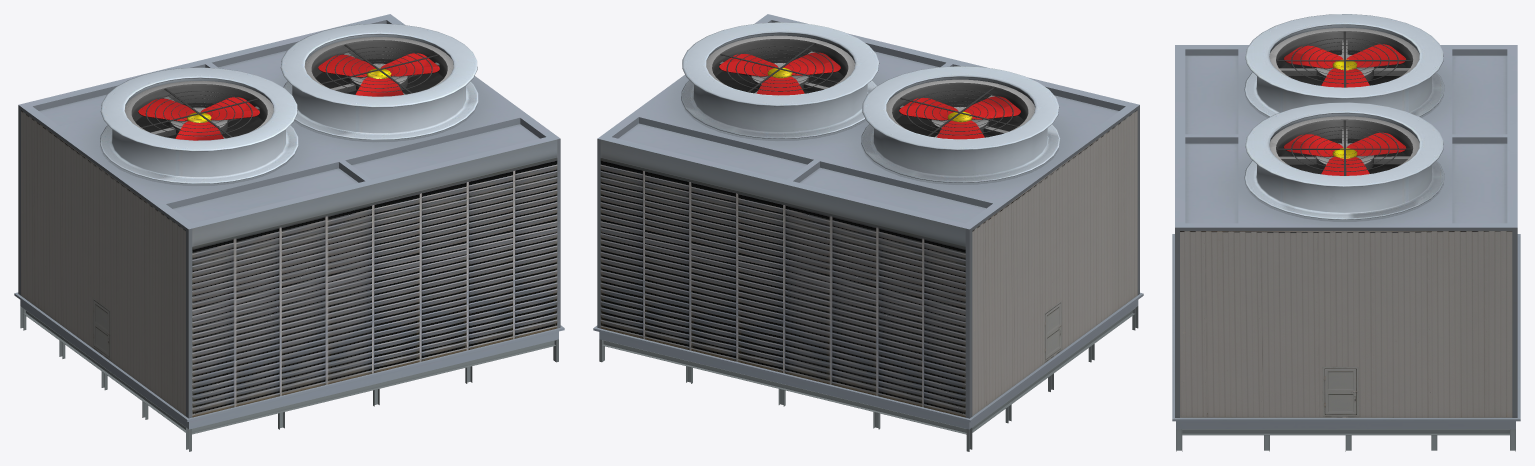
The model's file is LX_lengqueshuita.glb.
3 renders of one model, left to right at view 1: azimuth 30°, elevation 25°; view 2: azimuth 150°, elevation 25°; view 3: azimuth 270°, elevation 25°, orthographic.
Bounding box in the file's own units: 8.02 × 5.26 × 6.37.
Materials: 2 (2 with a texture image).
